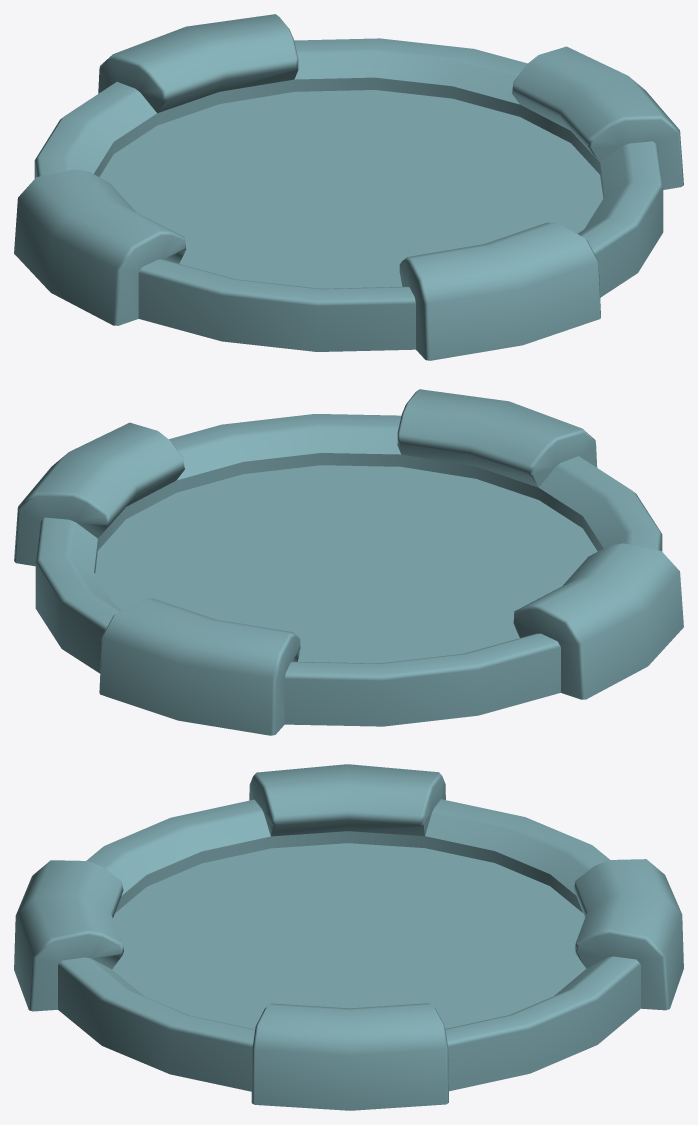
File: table_teleport_trashcan.fbx
3 renders of one model, top to bottom at view 1: azimuth 30°, elevation 25°; view 2: azimuth 150°, elevation 25°; view 3: azimuth 270°, elevation 25°, orthographic. The views are drawn at different scales.
Parts seen in each view (by area): view 1: table_teleport_trashcan; view 2: table_teleport_trashcan; view 3: table_teleport_trashcan.
Part boxes in pixels (bbox=[...]): table_teleport_trashcan: bbox=[14, 14, 683, 360]; table_teleport_trashcan: bbox=[14, 389, 683, 735]; table_teleport_trashcan: bbox=[14, 764, 683, 1110].
Size of the model in its own units: 139 by 17.11 by 139.
